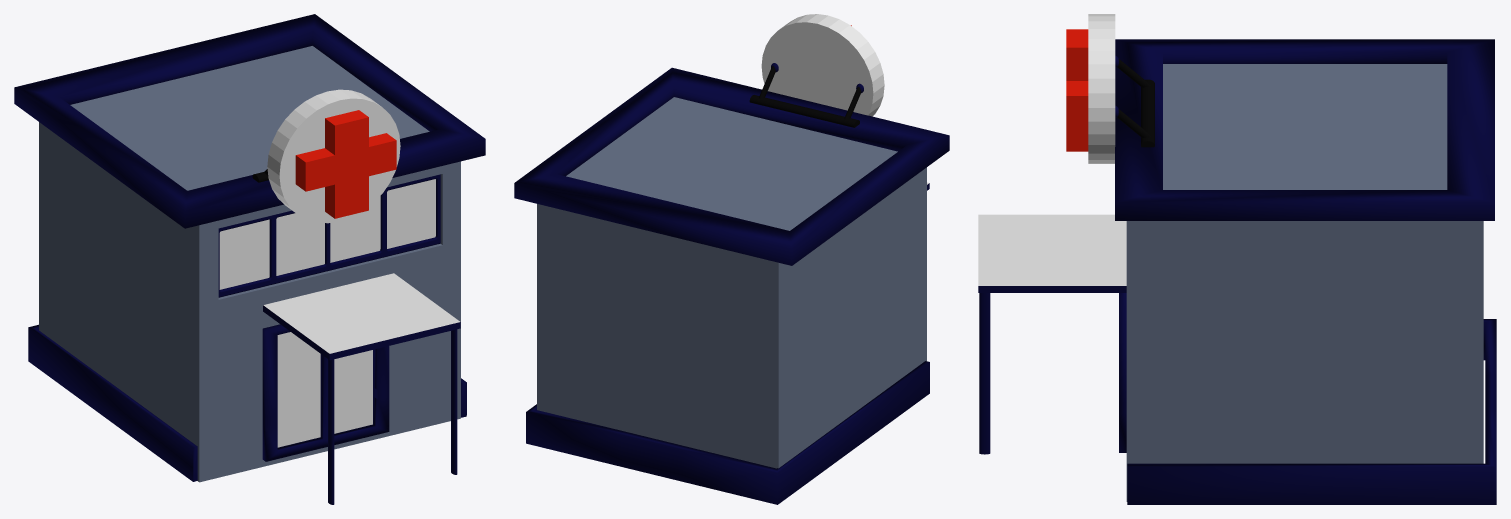
File: Hopital1.fbx
3 views of the same model, side by side, from view 1: azimuth 30°, elevation 25°; view 2: azimuth 150°, elevation 25°; view 3: azimuth 270°, elevation 25° (orthographic). The views are drawn at different scales.
Parts seen in each view (by area): view 1: Buil.036, Door, LOGO2, LOGO1, Window2; view 2: Buil.036, LOGO2, LOGO3; view 3: Buil.036, Door, LOGO2, LOGO1, LOGO3.
Boxes of the visible parts, x1,y1,x2,y2 form: Buil.036: (14, 14, 485, 482); Door: (262, 273, 460, 504); LOGO2: (267, 89, 400, 223); LOGO1: (295, 110, 396, 218); Window2: (218, 174, 440, 297); Buil.036: (514, 67, 949, 504); LOGO2: (761, 14, 884, 116); LOGO3: (749, 66, 861, 127); Buil.036: (1115, 39, 1496, 504); Door: (978, 214, 1126, 454); LOGO2: (1088, 14, 1115, 163); LOGO1: (1066, 29, 1088, 151); LOGO3: (1117, 59, 1154, 147).
Bounding box in the file's own units: 7002 × 8111 × 9390.
